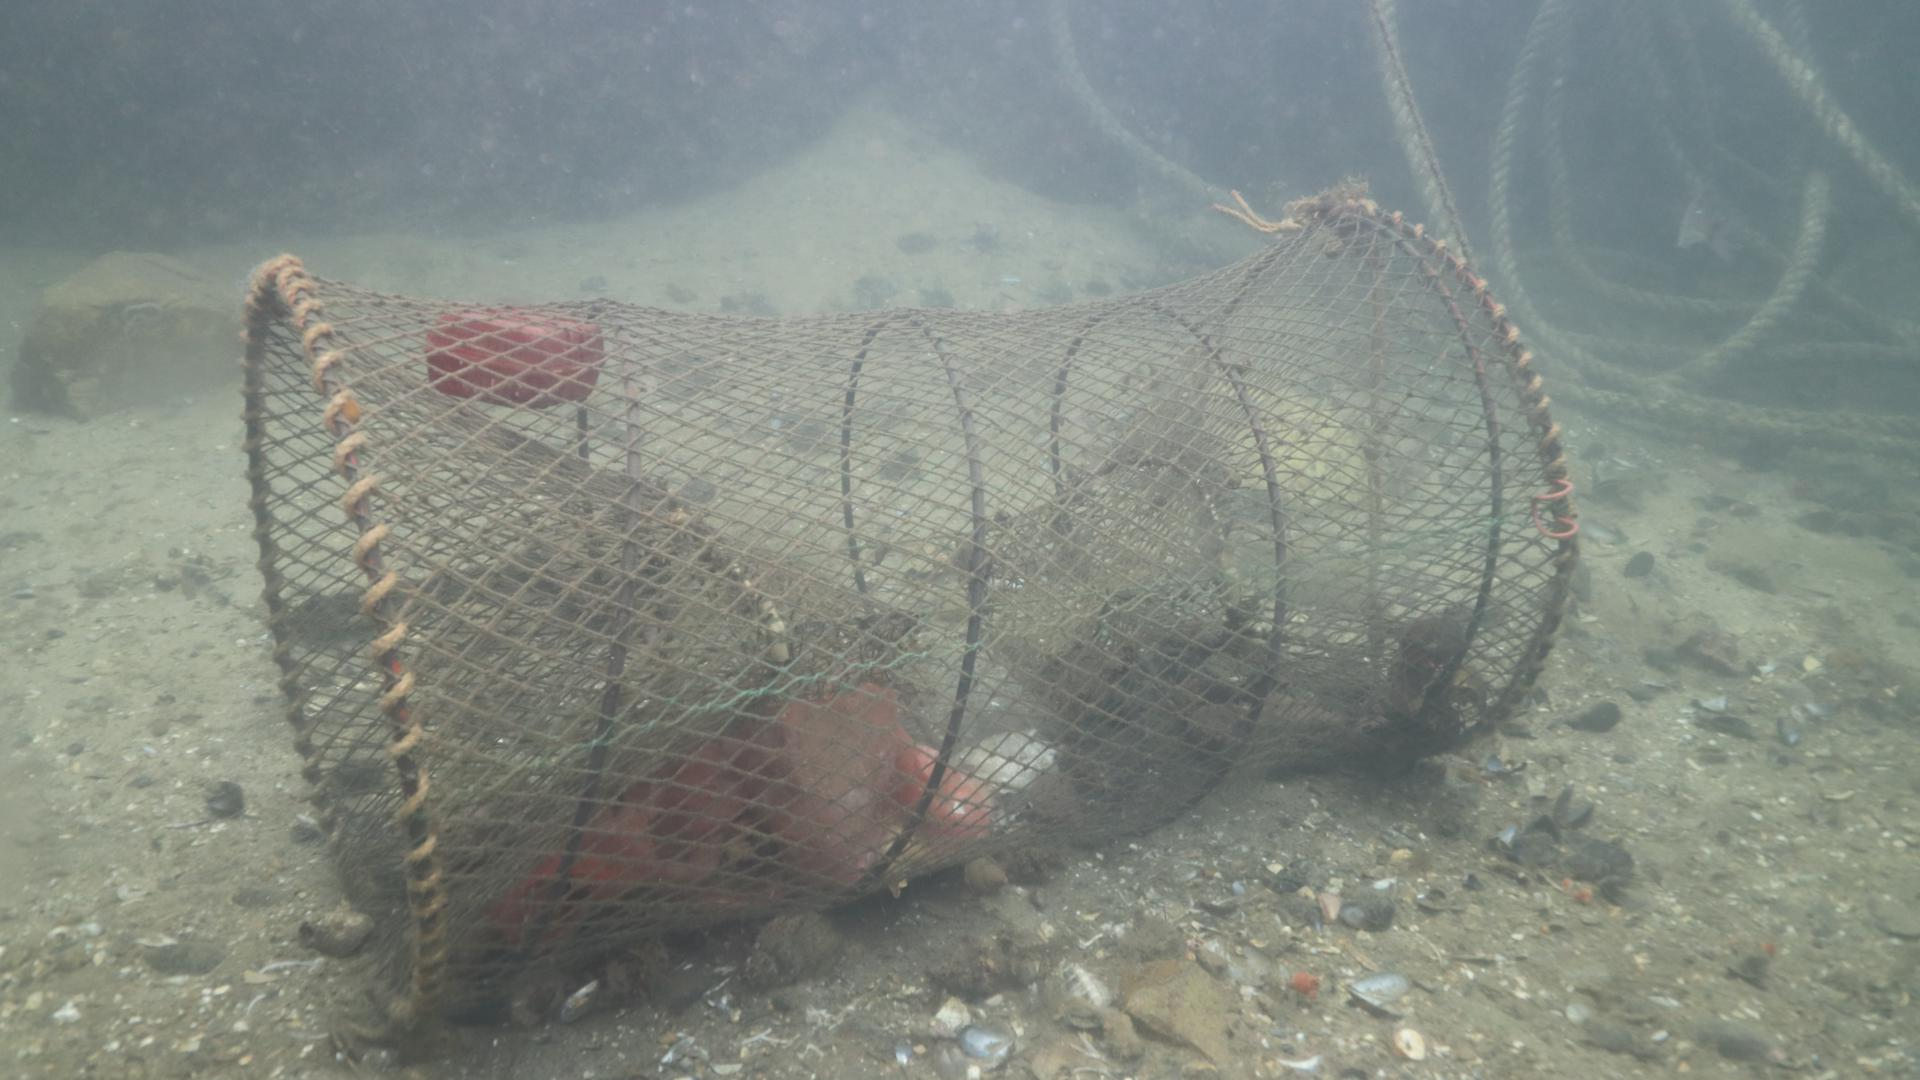bundle of ropes: (1044, 0, 1920, 452)
spring fish trap: (233, 195, 1581, 1039)
